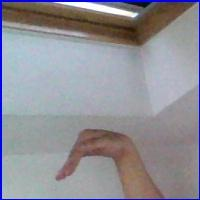del: (53, 127, 136, 186)
